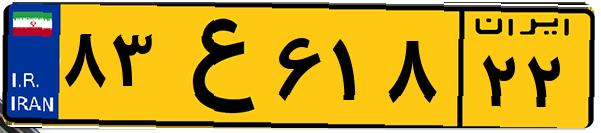1: (330, 28, 385, 110)
2: (475, 38, 525, 113), (525, 38, 570, 115)
3: (110, 28, 158, 98)
6: (270, 28, 330, 110)
8: (385, 28, 445, 110), (57, 26, 110, 100)
ع: (158, 12, 270, 120)
